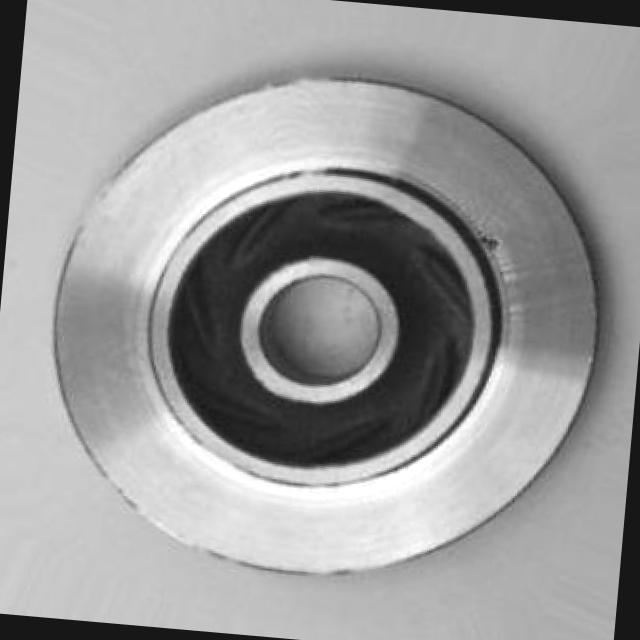Defect: (474, 220, 524, 271)
